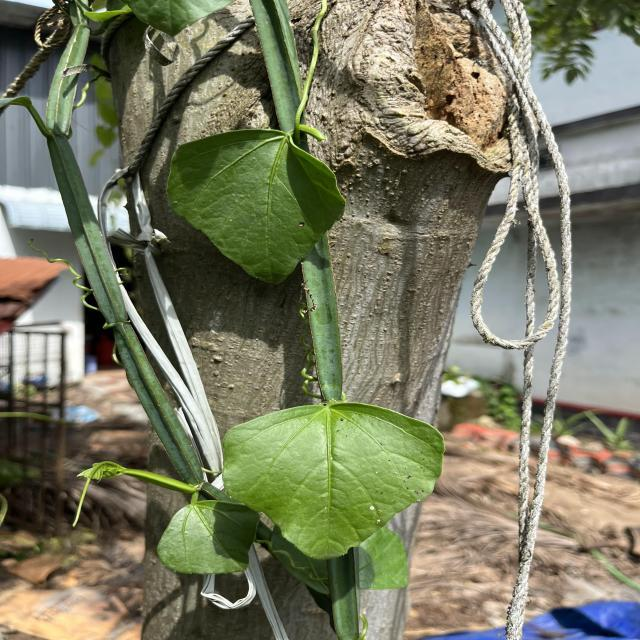Cissus quadrangularis: (218, 399, 448, 563), (161, 126, 347, 288), (152, 497, 262, 578)
